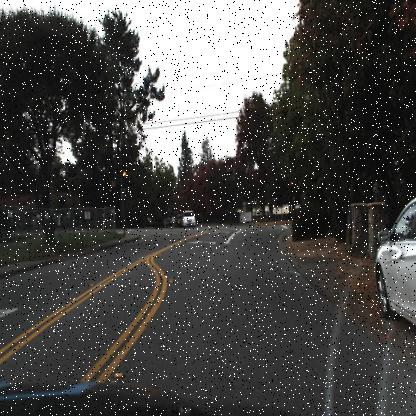car: (374, 193, 415, 335), (182, 210, 196, 232), (176, 211, 186, 229), (162, 214, 174, 228)
trafficLight-Red: (104, 184, 113, 200), (121, 167, 128, 183), (121, 169, 126, 187), (288, 178, 293, 192)
